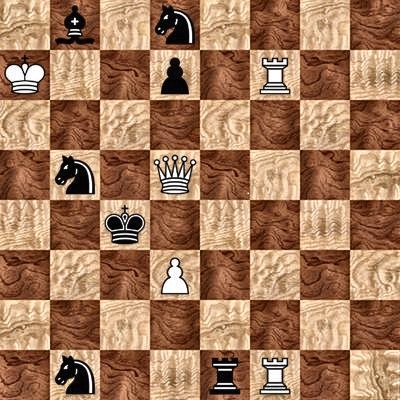black-bishop: (50, 0, 100, 50)
black-king: (100, 200, 150, 250)
black-knight: (150, 0, 200, 50), (50, 150, 100, 200), (50, 350, 100, 400)
black-pawn: (150, 50, 200, 100)
black-rook: (200, 350, 250, 400)
white-king: (0, 50, 50, 100)
white-pawn: (150, 250, 200, 300)
white-queen: (150, 150, 200, 200)
white-rook: (250, 50, 300, 100), (250, 350, 300, 400)
